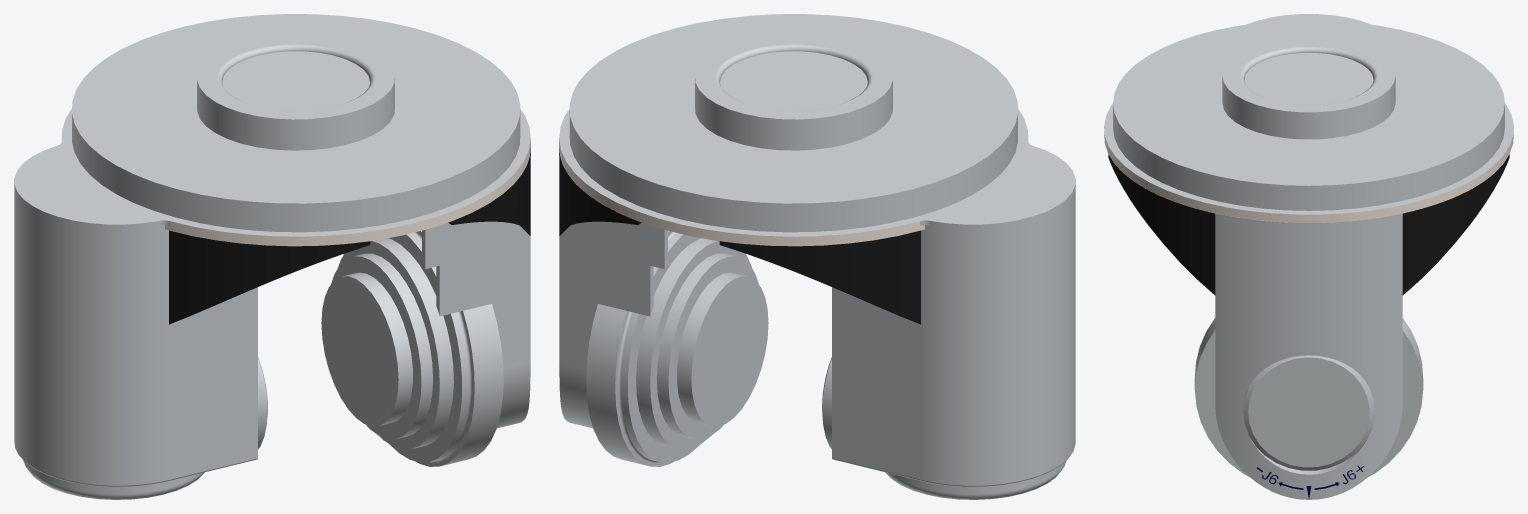
The picture shows the model from 3 angles, left to right: view 1: azimuth 30°, elevation 25°; view 2: azimuth 150°, elevation 25°; view 3: azimuth 270°, elevation 25°; orthographic projection. The views are drawn at different scales.
Parts seen in each view (by area): view 1: L6; view 2: L6; view 3: L6.
Part boxes in pixels (<box>): L6: <box>14,14,530,499</box>; L6: <box>559,14,1075,499</box>; L6: <box>1104,14,1513,499</box>.
Bounding box in the file's own units: 4.06 × 3.35 × 3.5.
